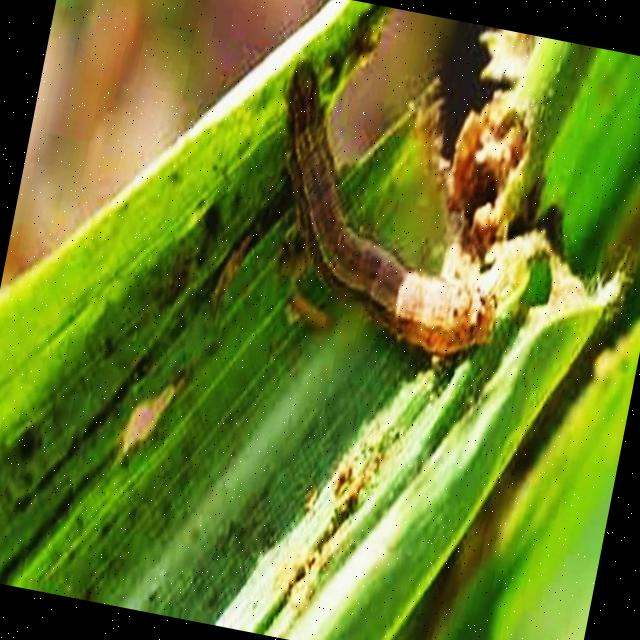worm: (239, 49, 565, 378)
